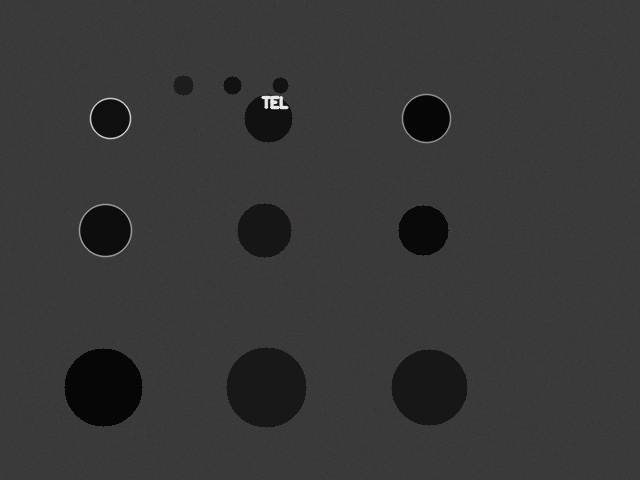hole: (226, 347, 306, 427), (64, 348, 142, 426), (391, 349, 467, 425), (237, 203, 291, 257), (79, 204, 131, 256), (398, 205, 448, 255), (244, 94, 292, 142), (402, 94, 450, 142), (90, 98, 130, 138), (173, 75, 193, 95), (223, 76, 241, 94), (272, 77, 288, 93)
